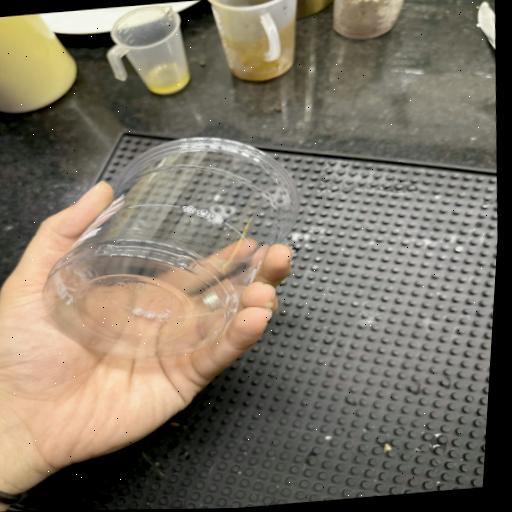ly_nhua: (44, 138, 299, 357)
